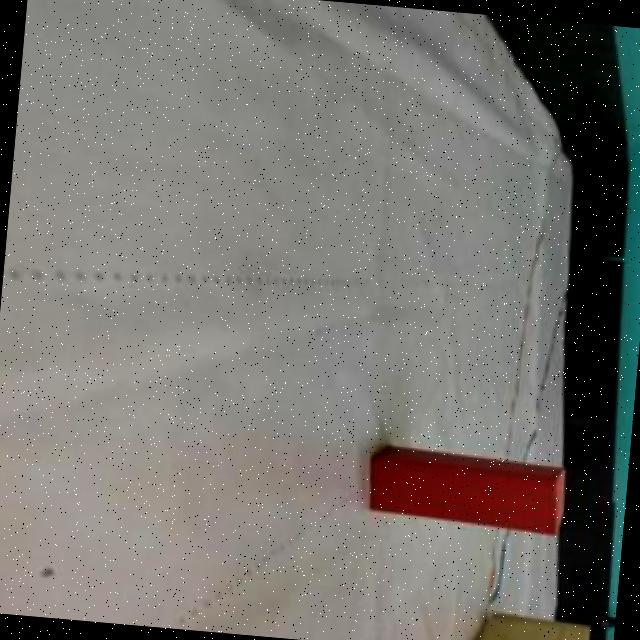redbox: (367, 444, 573, 535)
